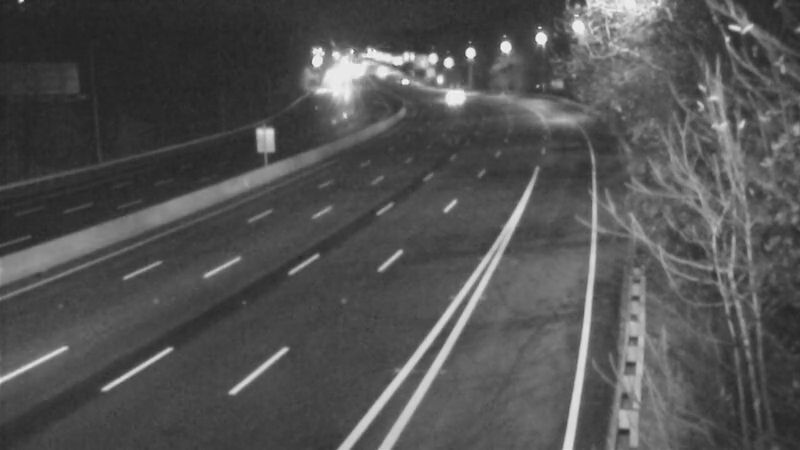vehicle: (375, 53, 425, 103), (422, 69, 472, 119)
